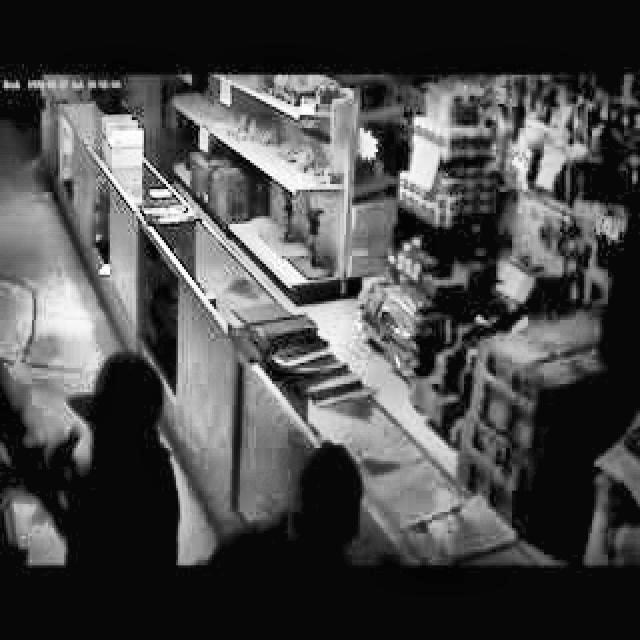burglary: (2, 339, 186, 564)
